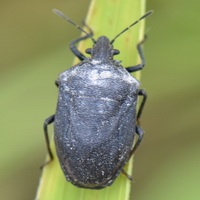insect: (44, 10, 151, 188)
